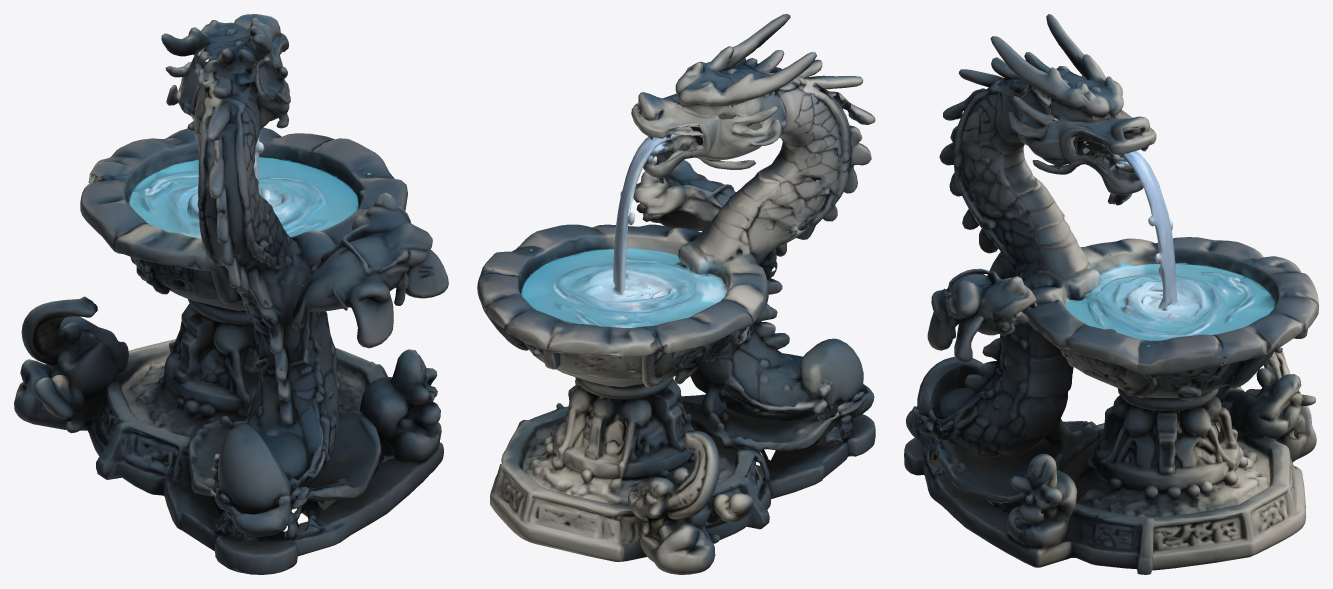
File: plaza-fountain-dragon.glb
3 renders of one model, left to right at view 1: azimuth 30°, elevation 25°; view 2: azimuth 150°, elevation 25°; view 3: azimuth 270°, elevation 25°, orthographic. The views are drawn at different scales.
Visible parts, largest first — view 1: tripo_node_0f06736b-a4f5-4967-86c0-a1ae24dcf4c1; view 2: tripo_node_0f06736b-a4f5-4967-86c0-a1ae24dcf4c1; view 3: tripo_node_0f06736b-a4f5-4967-86c0-a1ae24dcf4c1.
Boxes of the visible parts, <box> form: tripo_node_0f06736b-a4f5-4967-86c0-a1ae24dcf4c1: <box>14,14,448,574</box>; tripo_node_0f06736b-a4f5-4967-86c0-a1ae24dcf4c1: <box>477,14,875,574</box>; tripo_node_0f06736b-a4f5-4967-86c0-a1ae24dcf4c1: <box>904,14,1318,574</box>.
Bounding box in the file's own units: 4.06 × 6 × 5.11.
Materials: 1 (1 with a texture image).
